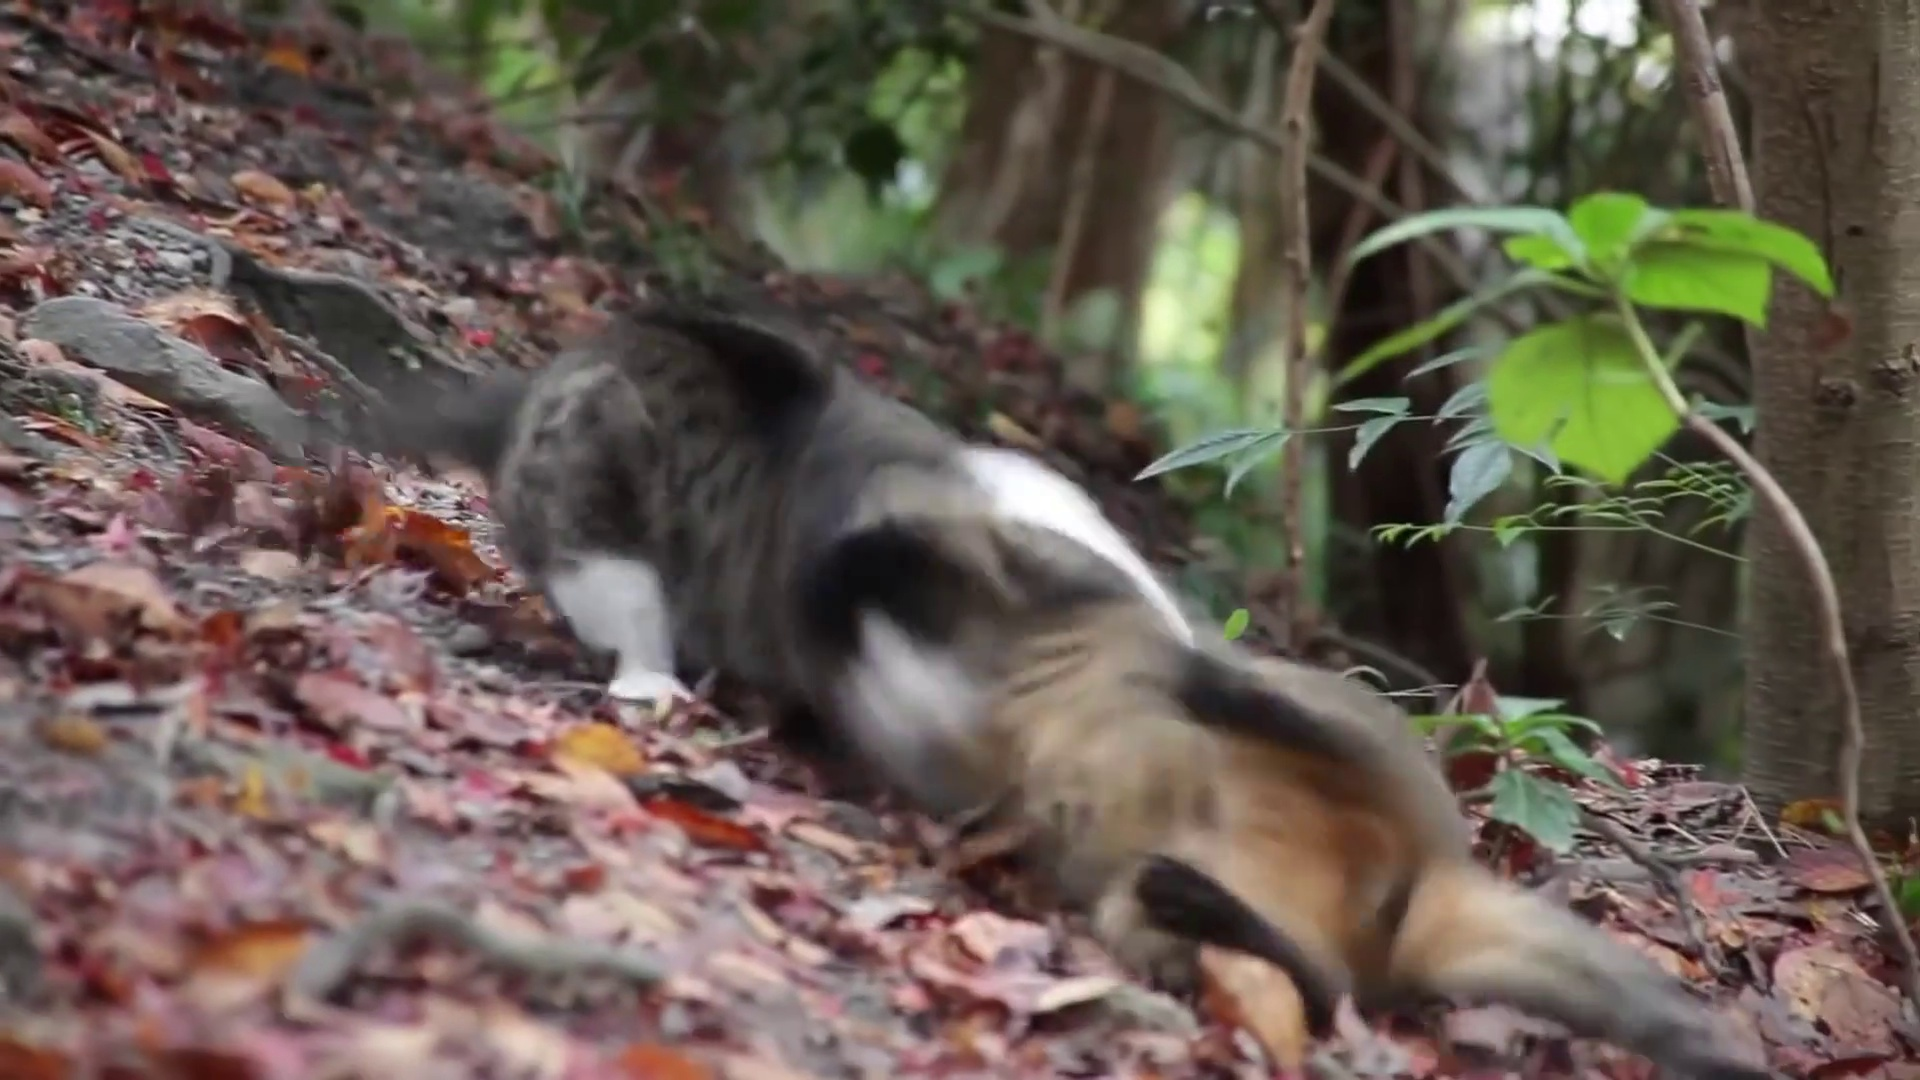black-white: (493, 297, 1199, 699)
pure black: (791, 516, 1772, 1080)
